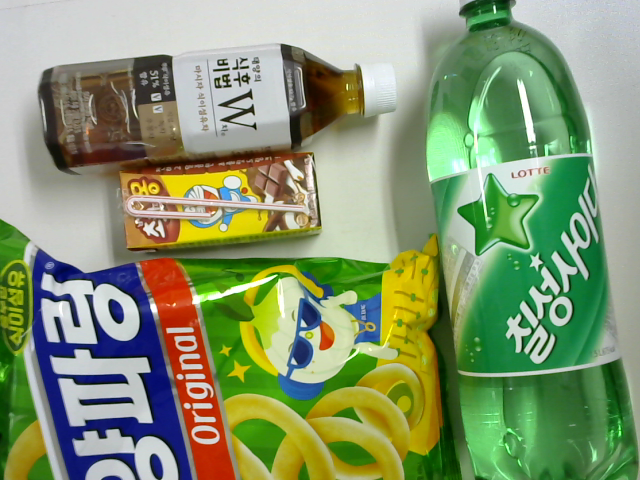Chilseong_Cider_1.5L: (425, 4, 636, 480)
Choco_E_Mong: (103, 164, 327, 254)
Oninon_Ring: (3, 218, 449, 480)
Post-meal_recipe_W_tea_500ml: (29, 40, 403, 170)
